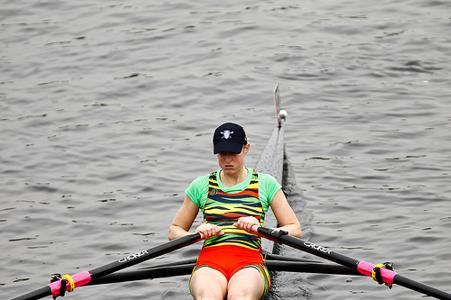person: (166, 122, 303, 299)
